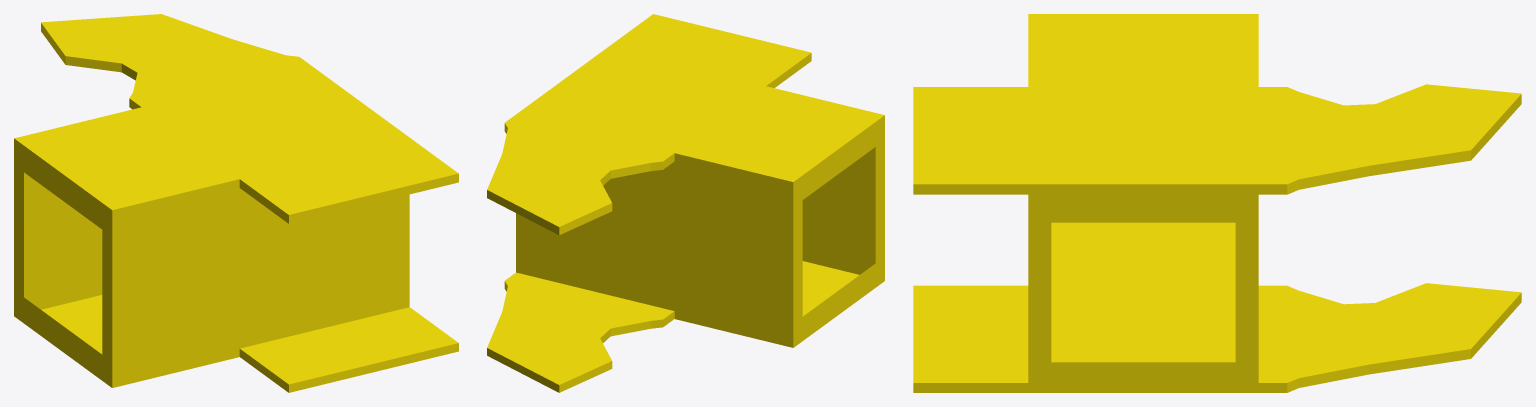
File: ColumnHolder.fbx
3 renders of one model, left to right at view 1: azimuth 30°, elevation 25°; view 2: azimuth 150°, elevation 25°; view 3: azimuth 270°, elevation 25°, orthographic. The views are drawn at different scales.
Visible parts, largest first — view 1: Cube; view 2: Cube; view 3: Cube.
Part boxes in pixels (x1,y1,x2,y2): Cube: [14, 14, 458, 392]; Cube: [487, 14, 884, 392]; Cube: [913, 14, 1521, 392].
Size of the model in its own units: 350 by 200 by 529.
